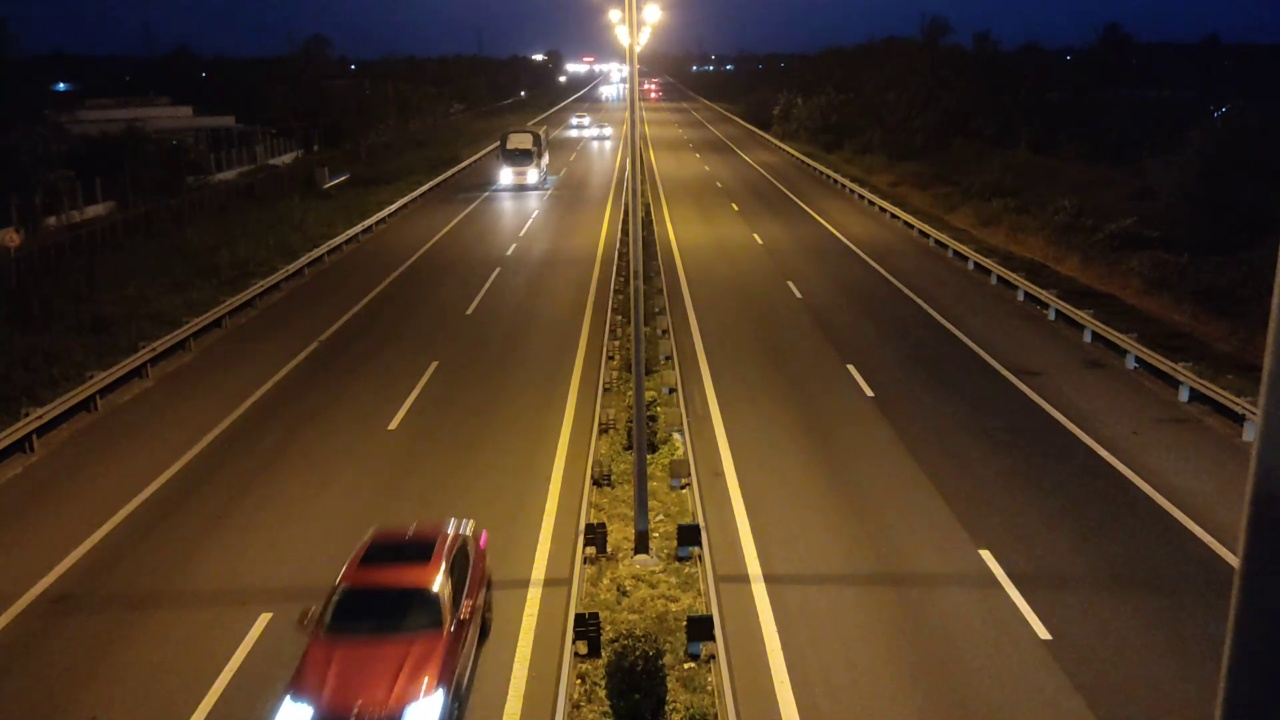car: (269, 517, 493, 718)
truck: (492, 122, 551, 192)
